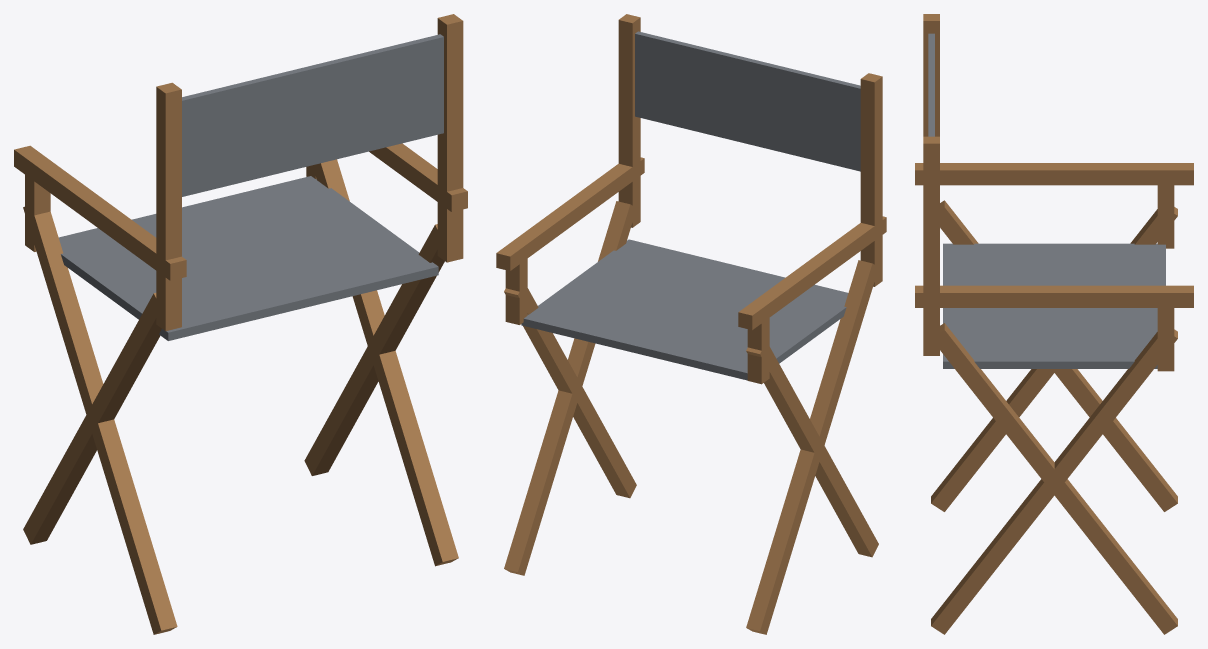
File: chair-director.glb
3 renders of one model, left to right at view 1: azimuth 30°, elevation 25°; view 2: azimuth 150°, elevation 25°; view 3: azimuth 270°, elevation 25°, orthographic. The views are drawn at different scales.
Visible parts, largest first — view 1: chair-director; view 2: chair-director; view 3: chair-director.
Boxes of the visible parts, x1=… form: chair-director: x1=14, y1=14, x2=467, y2=634; chair-director: x1=496, y1=14, x2=886, y2=634; chair-director: x1=915, y1=14, x2=1193, y2=634.
Size of the model in its own units: 0.55 by 0.9717 by 0.5.
